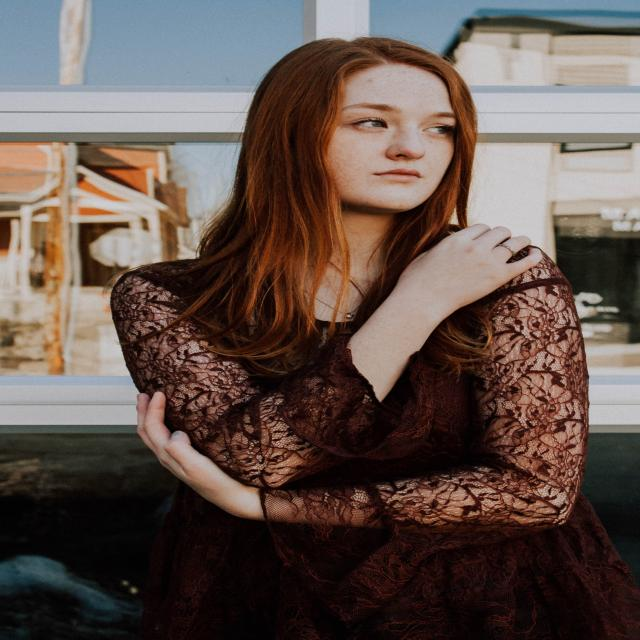adult: (112, 41, 581, 640)
